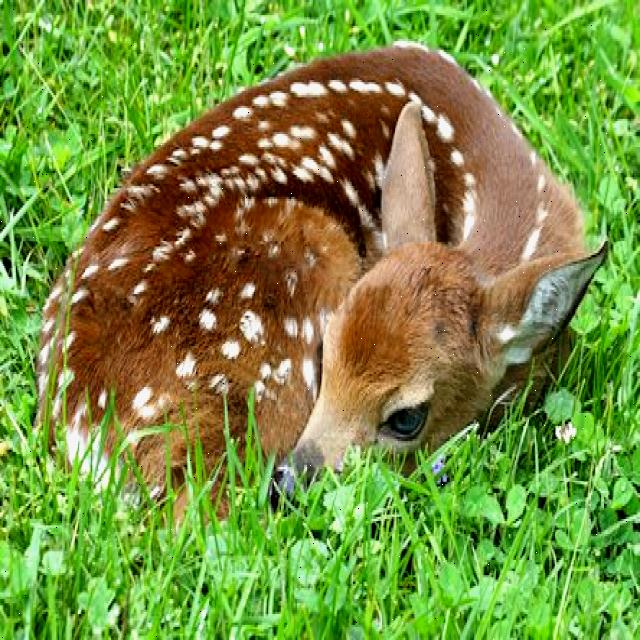deer: (279, 97, 611, 512)
